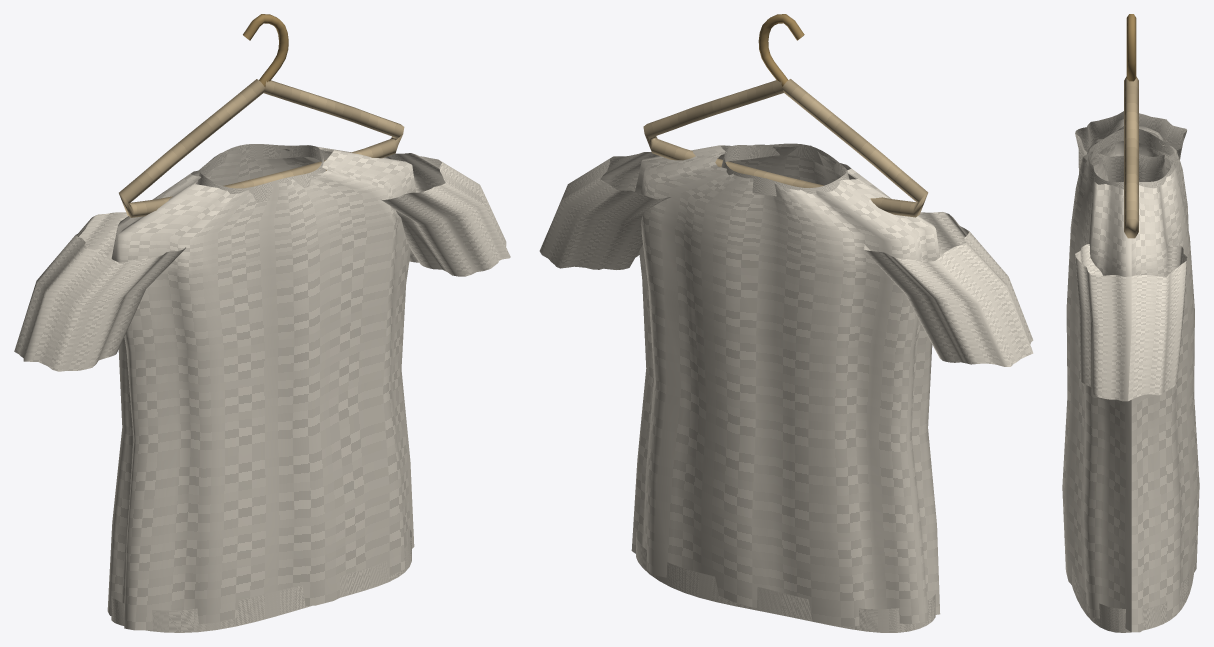
The picture shows the model from 3 angles, left to right: view 1: azimuth 30°, elevation 25°; view 2: azimuth 150°, elevation 25°; view 3: azimuth 270°, elevation 25°; orthographic projection. The views are drawn at different scales.
Visible parts, largest first — view 1: fabric_cream, ash_grain, aged_brass; view 2: fabric_cream, ash_grain, aged_brass; view 3: fabric_cream, ash_grain, aged_brass.
Part boxes in pixels (bbox=[...]): fabric_cream: bbox=[14, 144, 510, 632]; ash_grain: bbox=[119, 79, 404, 217]; aged_brass: bbox=[243, 14, 288, 86]; fabric_cream: bbox=[539, 143, 1033, 632]; ash_grain: bbox=[643, 79, 928, 217]; aged_brass: bbox=[758, 14, 804, 86]; fabric_cream: bbox=[1062, 111, 1199, 632]; ash_grain: bbox=[1124, 76, 1138, 238]; aged_brass: bbox=[1126, 14, 1136, 81].
Bounding box in the file's own units: 0.8044 × 0.911 × 0.2046.
3 materials, 2 textured.
